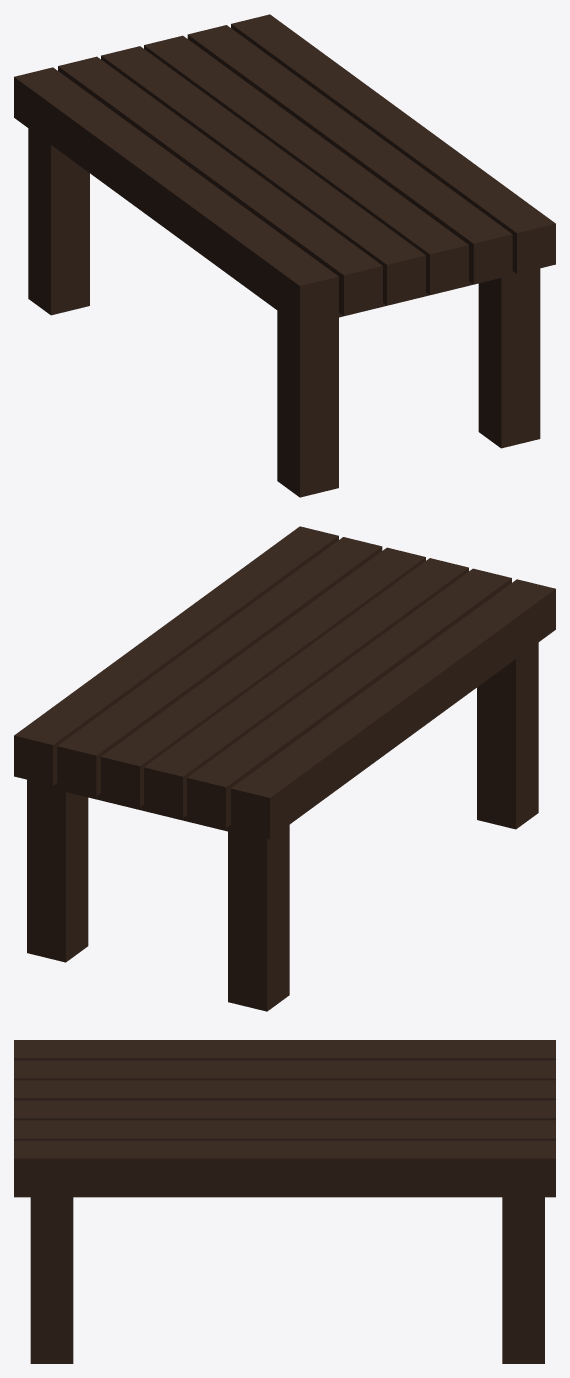
The model's file is envi_tableLong.fbx.
The picture shows the model from 3 angles, top to bottom: view 1: azimuth 30°, elevation 25°; view 2: azimuth 150°, elevation 25°; view 3: azimuth 270°, elevation 25°; orthographic projection. The views are drawn at different scales.
Visible parts, largest first — view 1: pCube135; view 2: pCube135; view 3: pCube135.
Boxes of the visible parts, bbox=[...] form: pCube135: bbox=[14, 14, 555, 497]; pCube135: bbox=[14, 526, 555, 1011]; pCube135: bbox=[14, 1040, 555, 1363].
Size of the model in its own units: 2.36 by 1.93 by 4.56.
